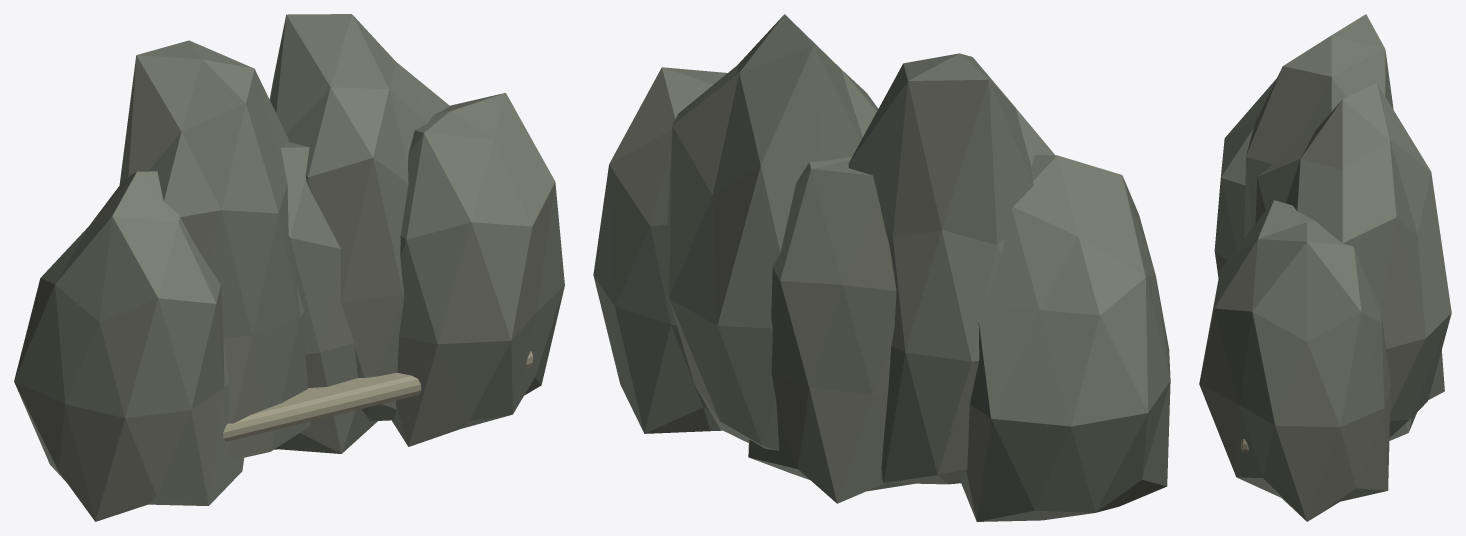
File: prop-rocks-large.glb
The picture shows the model from 3 angles, left to right: view 1: azimuth 30°, elevation 25°; view 2: azimuth 150°, elevation 25°; view 3: azimuth 270°, elevation 25°; orthographic projection. The views are drawn at different scales.
Parts seen in each view (by area): view 1: Limestone, Stone ledges; view 2: Limestone; view 3: Limestone.
Boxes of the visible parts, x1=… form: Limestone: x1=14, y1=14, x2=564, y2=521; Stone ledges: x1=223, y1=351, x2=532, y2=441; Limestone: x1=593, y1=14, x2=1170, y2=521; Limestone: x1=1199, y1=14, x2=1451, y2=521.
Size of the model in its own units: 4.5 by 3.32 by 2.17.
